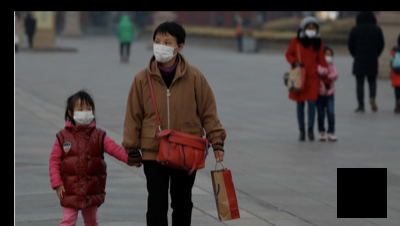with_mask: (153, 36, 178, 61), (72, 105, 96, 126), (304, 25, 318, 38), (324, 51, 334, 61)
